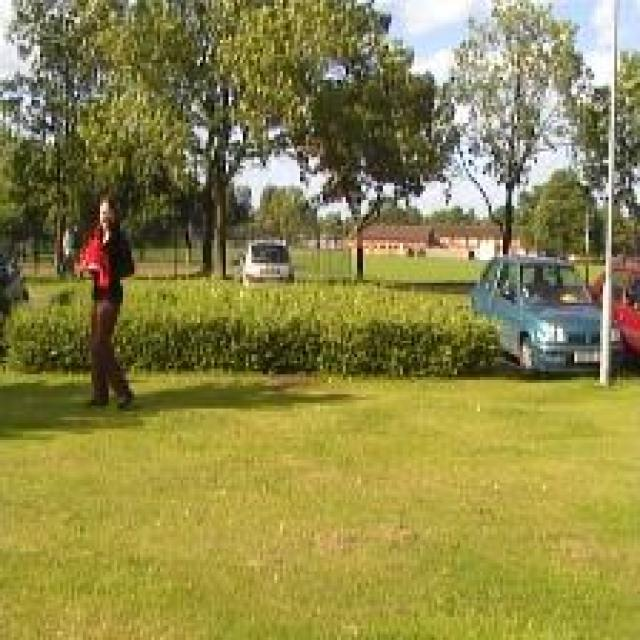other: (72, 226, 114, 286)
